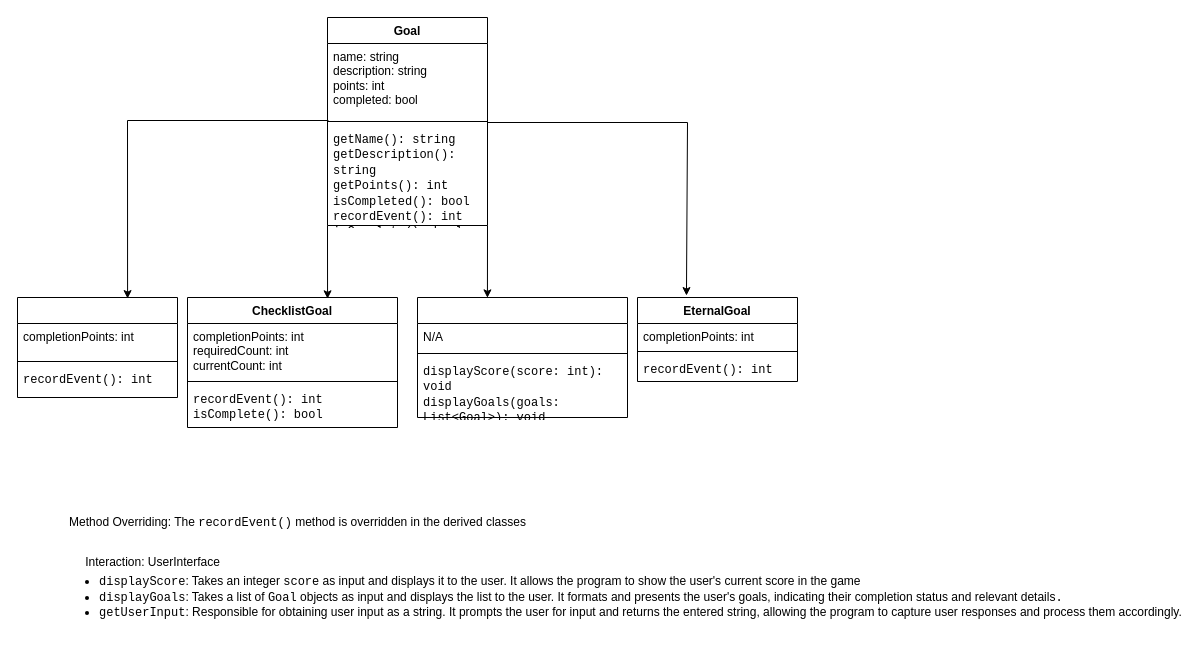
Image size: 1200x655. Some labels were removed from this diagram. Here are the shapes that lost their labels. From the top down, the box of each, then its label:
(16, 296, 178, 398): SimpleGoal
(416, 296, 628, 418): UserInterface
